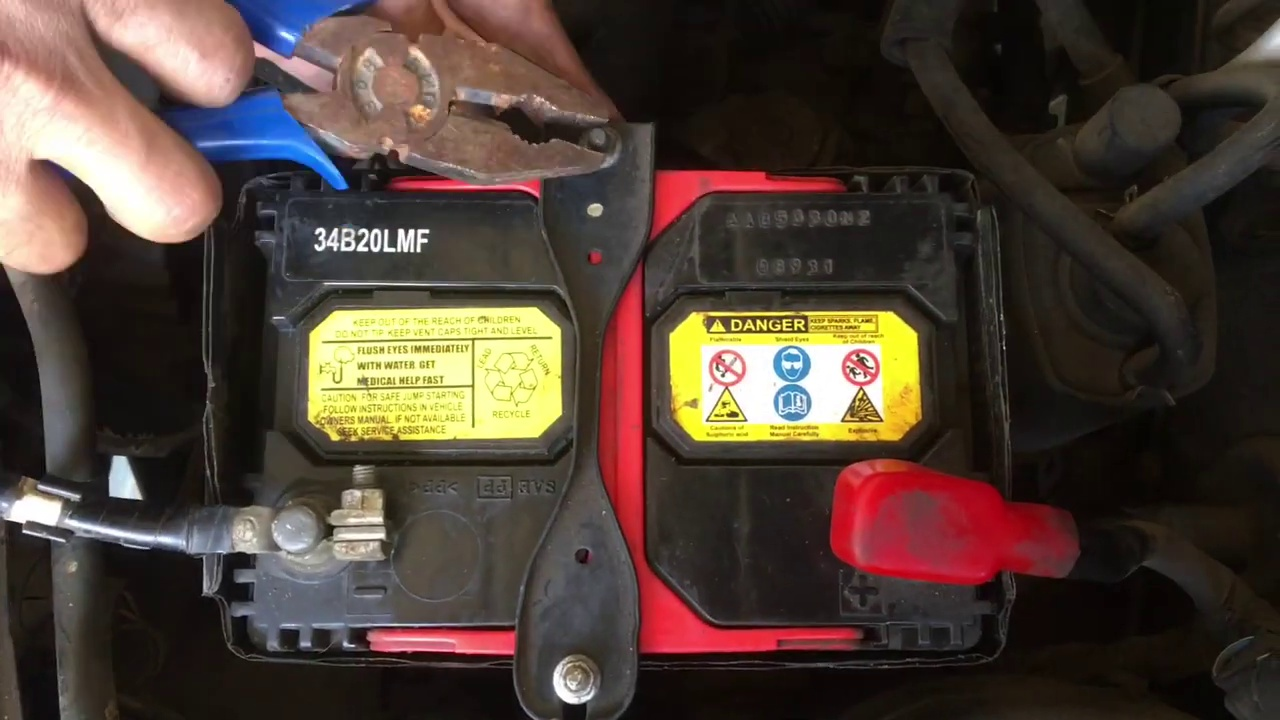battery: (239, 142, 1014, 661)
neg_connected: (187, 454, 423, 590)
pos_connected: (823, 423, 1136, 623)
